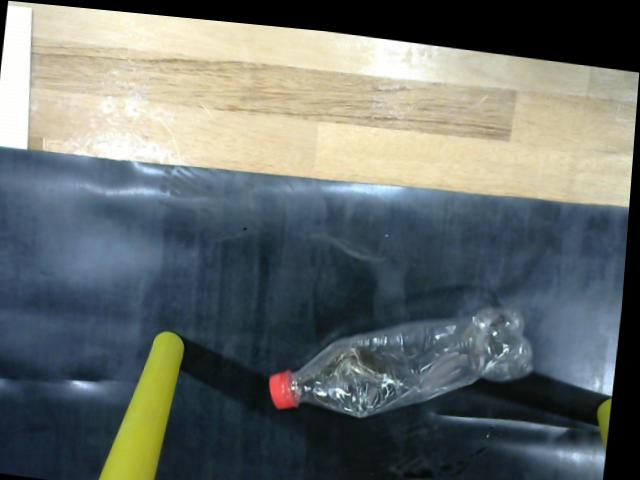bottle: (270, 293, 544, 412)
